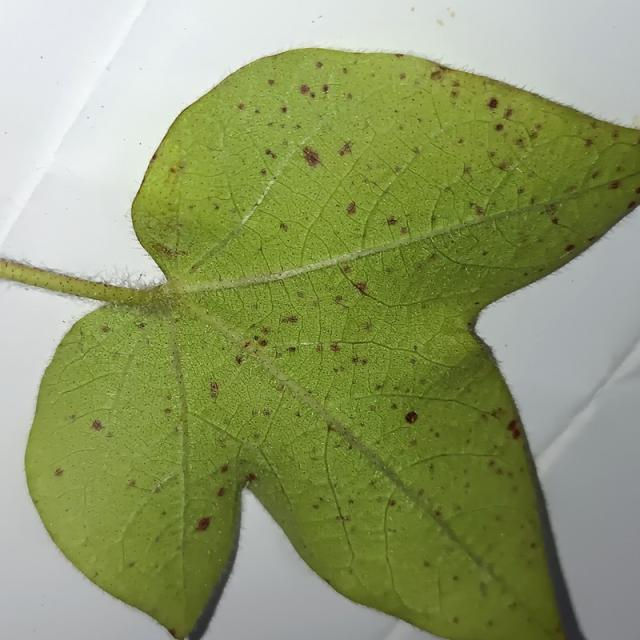Bacterial_Blight: (392, 404, 424, 425), (301, 146, 323, 167), (150, 242, 176, 259), (194, 516, 211, 532), (337, 141, 353, 157), (496, 159, 512, 171), (353, 281, 367, 294), (209, 381, 219, 399), (351, 355, 367, 366), (430, 69, 444, 81), (281, 315, 299, 324), (91, 419, 104, 431), (545, 203, 558, 215), (507, 419, 518, 432), (346, 202, 357, 215), (479, 581, 488, 596), (487, 98, 498, 109), (265, 149, 277, 159), (336, 514, 350, 522), (387, 216, 398, 226), (475, 204, 485, 215), (235, 354, 245, 365), (300, 84, 310, 95), (362, 321, 373, 331), (245, 473, 257, 482), (504, 108, 514, 118), (279, 222, 289, 232), (609, 181, 620, 190), (583, 139, 594, 148), (342, 265, 352, 274), (217, 487, 226, 497), (54, 468, 64, 477), (564, 244, 575, 252), (450, 90, 459, 99), (627, 201, 636, 210), (168, 628, 177, 637), (508, 602, 517, 611), (494, 123, 504, 131), (330, 344, 340, 352), (135, 322, 146, 329), (334, 295, 343, 303), (259, 339, 268, 347), (220, 464, 228, 473), (322, 84, 330, 93), (101, 325, 110, 333), (251, 433, 260, 441), (551, 217, 559, 225), (129, 479, 137, 487), (280, 106, 288, 114), (261, 327, 269, 335), (315, 61, 323, 69), (388, 499, 396, 507), (400, 227, 408, 235), (262, 409, 270, 417), (399, 72, 407, 80), (409, 438, 417, 446), (517, 187, 525, 195), (423, 559, 431, 567), (277, 384, 285, 392), (154, 534, 161, 543), (288, 346, 296, 353), (267, 79, 275, 86), (164, 408, 172, 415), (345, 93, 353, 100), (409, 358, 417, 365), (243, 341, 251, 348), (312, 503, 320, 510), (375, 384, 383, 391), (238, 103, 245, 110), (297, 291, 304, 298), (260, 168, 267, 175), (435, 510, 442, 517), (294, 411, 301, 418), (128, 561, 135, 568), (213, 203, 220, 210), (588, 236, 596, 242), (346, 442, 352, 450), (253, 335, 260, 341), (530, 542, 536, 549), (453, 617, 459, 624), (310, 92, 316, 98), (370, 405, 376, 411), (161, 510, 166, 516), (637, 187, 640, 195)
Cotton: (3, 49, 639, 639)
